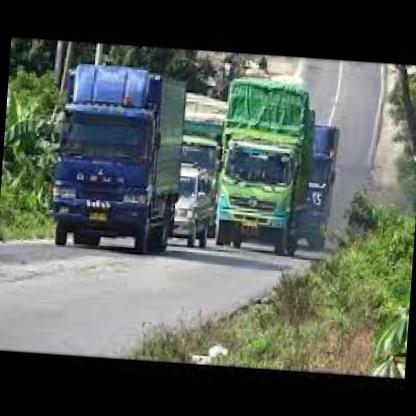truck: (49, 102, 161, 259), (212, 137, 301, 264)
